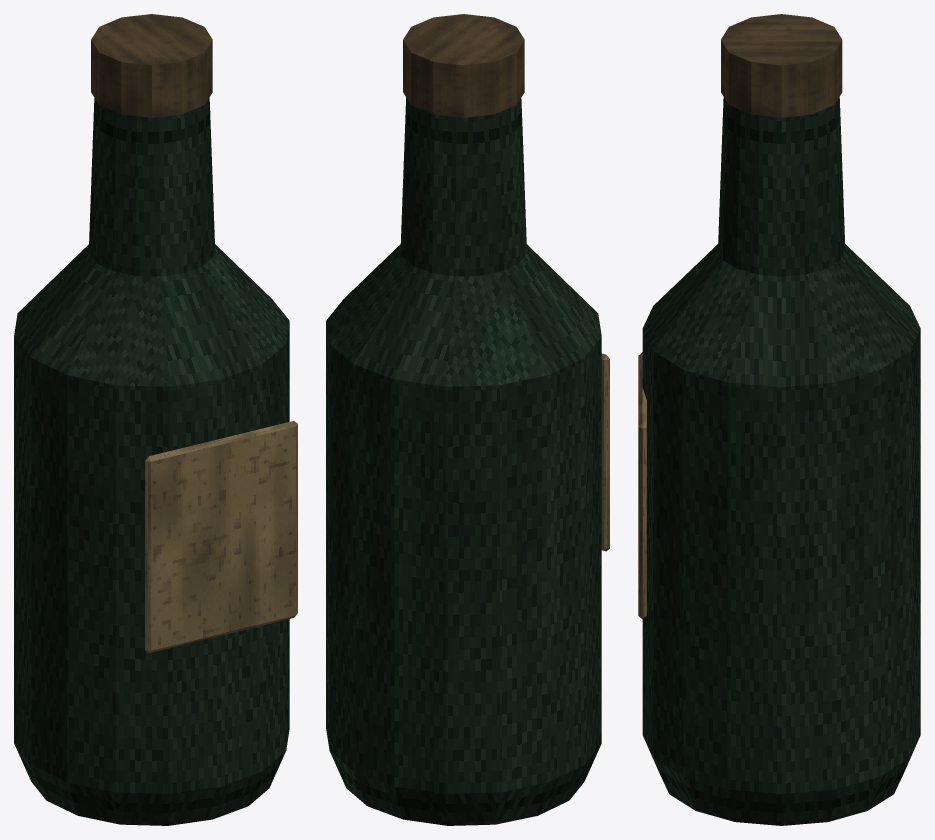
The model's file is level_loose_bottle_worn.glb.
The picture shows the model from 3 angles, left to right: view 1: azimuth 30°, elevation 25°; view 2: azimuth 150°, elevation 25°; view 3: azimuth 270°, elevation 25°; orthographic projection.
Parts seen in each view (by area): view 1: level_loose_bottle_worn; view 2: level_loose_bottle_worn; view 3: level_loose_bottle_worn.
Boxes of the visible parts, x1,y1,x2,y2 form: level_loose_bottle_worn: [14, 14, 297, 825]; level_loose_bottle_worn: [326, 14, 609, 825]; level_loose_bottle_worn: [638, 14, 920, 825].
Bounding box in the file's own units: 0.096 × 0.28 × 0.0975.
3 materials, 3 textured.
